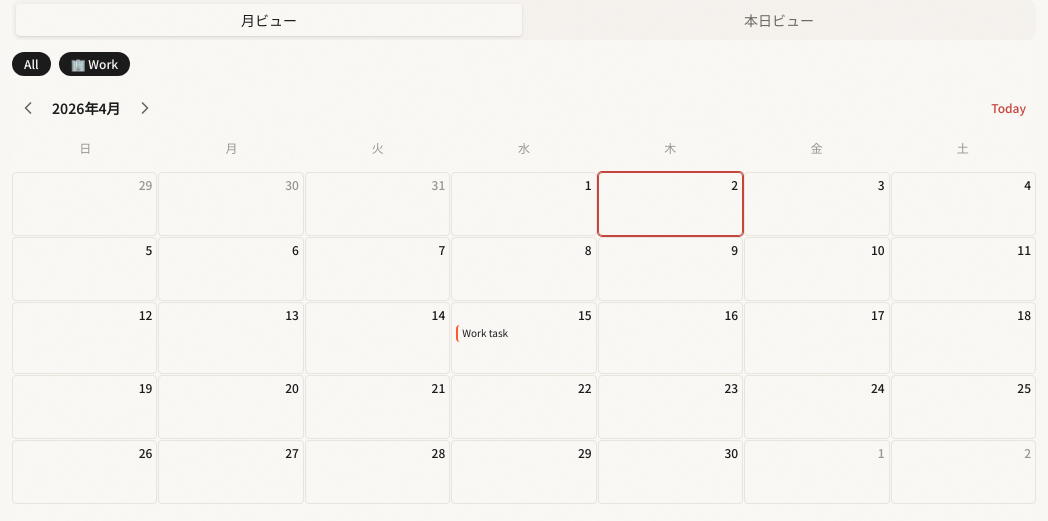
Test: CalendarPage - Project Filter (SDD-004-FE-04) › should toggle a project chip off and hide its todos
This screenshot has width=1048, height=521.
Expected: the text "Work task" is shown, [456,325,592,342]
Click the button with test id "filter-chip-p1": (94, 64) [59,52,130,76]
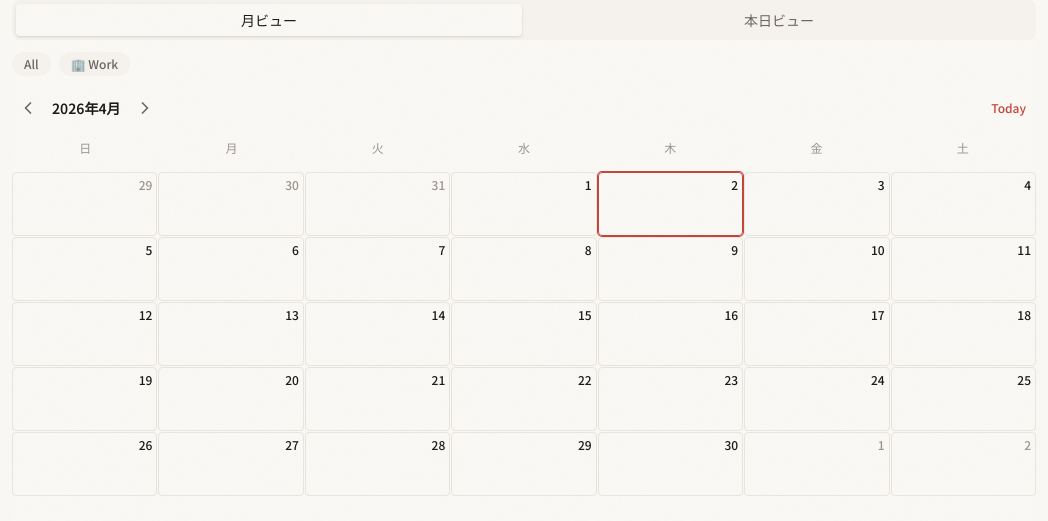
Result: the text with test id "todo-badge-t1" is gone
